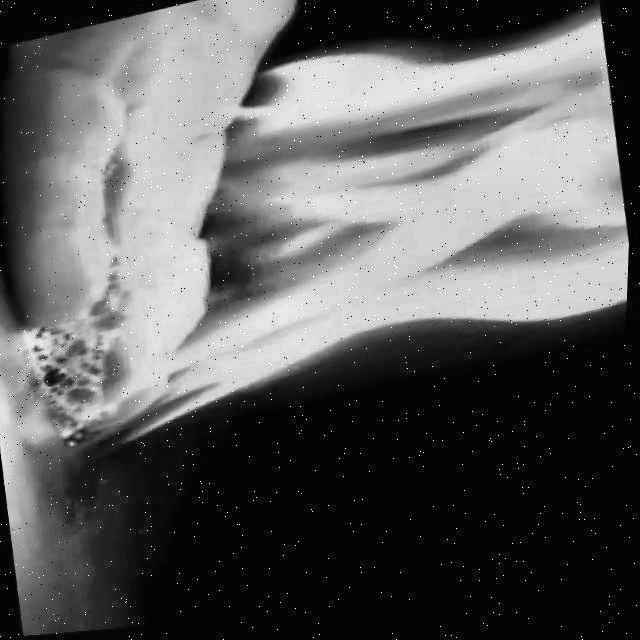Fire: (13, 0, 639, 478)
